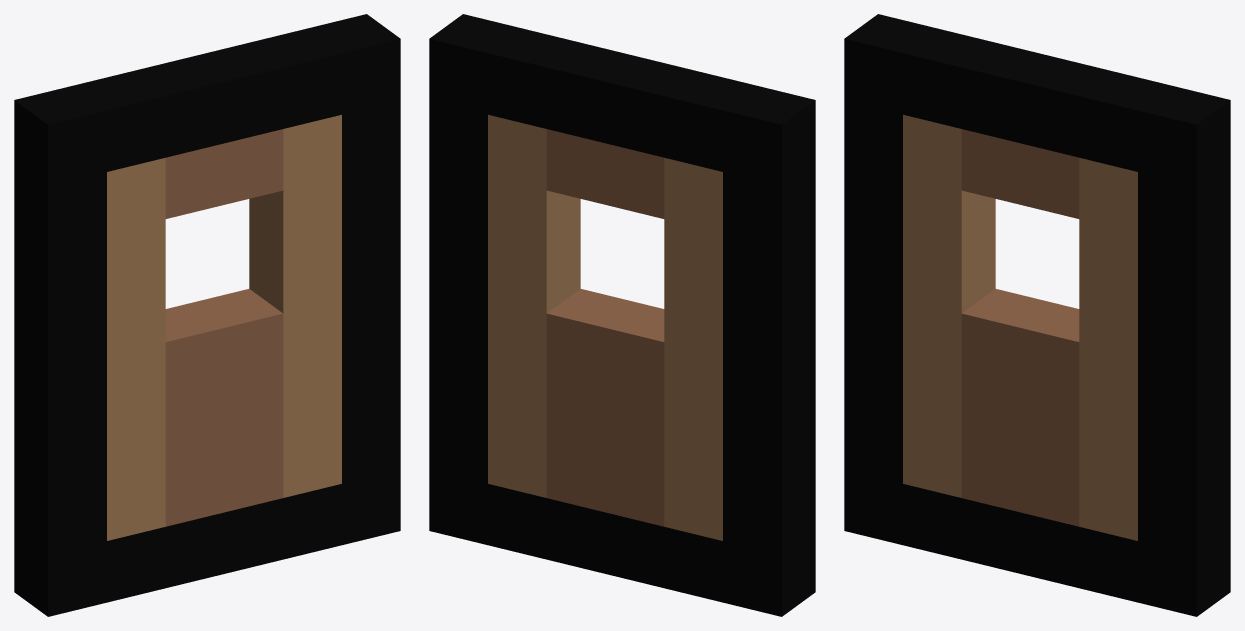
Rendered from Jungle Door.glb.
3 views of the same model, side by side, from view 1: azimuth 30°, elevation 25°; view 2: azimuth 150°, elevation 25°; view 3: azimuth 330°, elevation 25° (orthographic).
Visible parts, largest first — view 1: generated(Clone); view 2: generated(Clone); view 3: generated(Clone).
Part boxes in pixels (bbox=[...]): generated(Clone): bbox=[14, 14, 400, 616]; generated(Clone): bbox=[429, 14, 815, 616]; generated(Clone): bbox=[844, 14, 1230, 616].
Bounding box in the file's own units: 6 × 8 × 1.
Materials: 1 (1 with a texture image).
